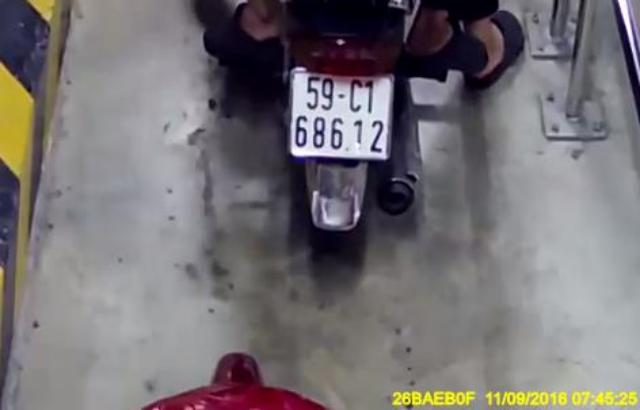plate: (278, 63, 402, 168)
